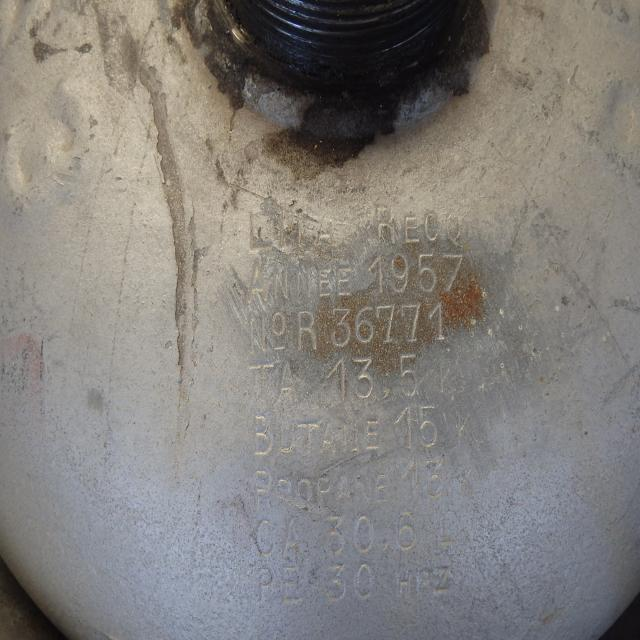ocr: (234, 206, 475, 614)
